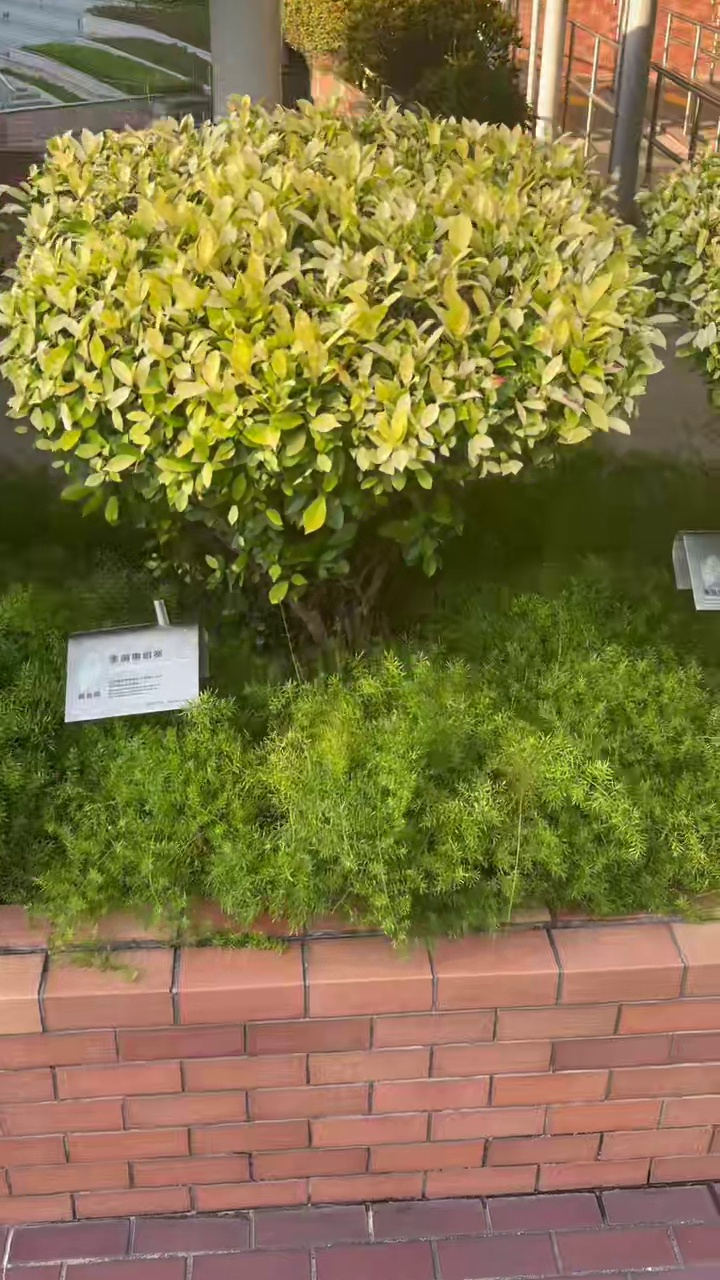Golden-leaves Fig: (0, 98, 664, 638)
